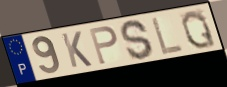9: (32, 35, 63, 75)
K: (59, 30, 94, 69)
L: (150, 15, 186, 57)
P: (87, 25, 119, 67)
Q: (180, 9, 218, 50)
S: (119, 18, 155, 61)
